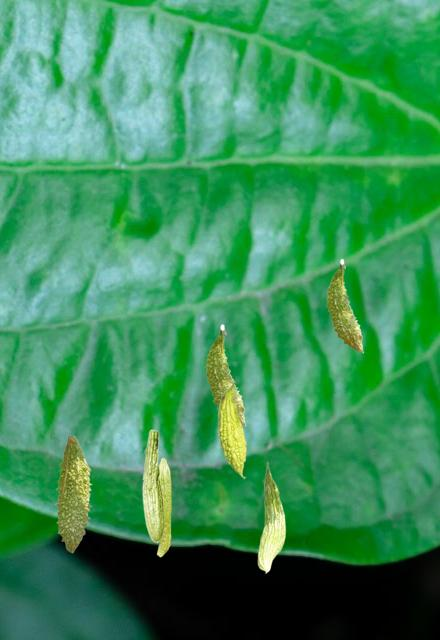ampalaya: (54, 434, 92, 553), (204, 324, 246, 426), (325, 258, 364, 353), (257, 461, 286, 574), (217, 380, 246, 479), (141, 429, 164, 543), (156, 457, 172, 557)
